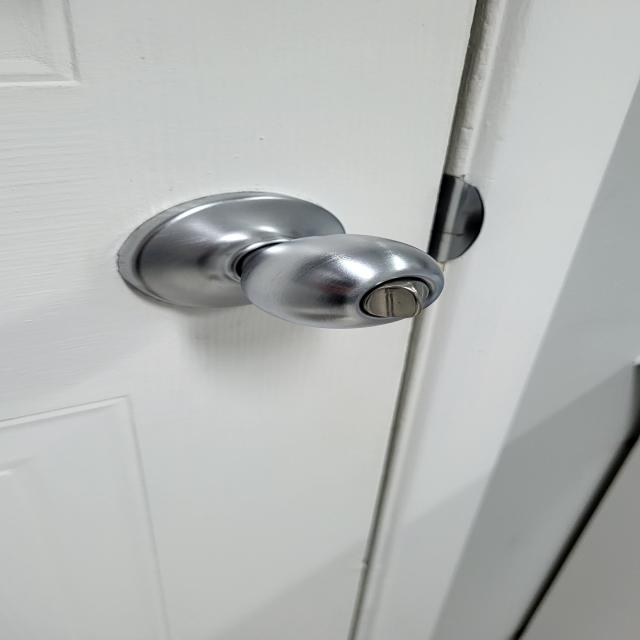door-knob: (119, 192, 444, 329)
